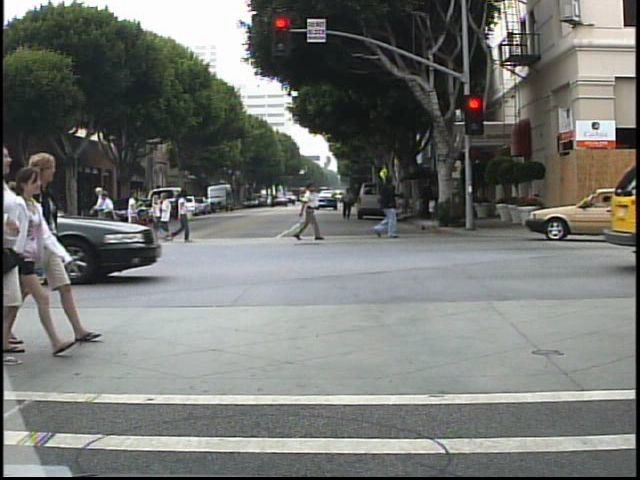person: (27, 145, 81, 349), (6, 164, 53, 364), (368, 169, 401, 242), (296, 178, 328, 242), (100, 187, 125, 246), (172, 188, 195, 246), (91, 182, 108, 246), (120, 189, 147, 228), (340, 184, 356, 220)
